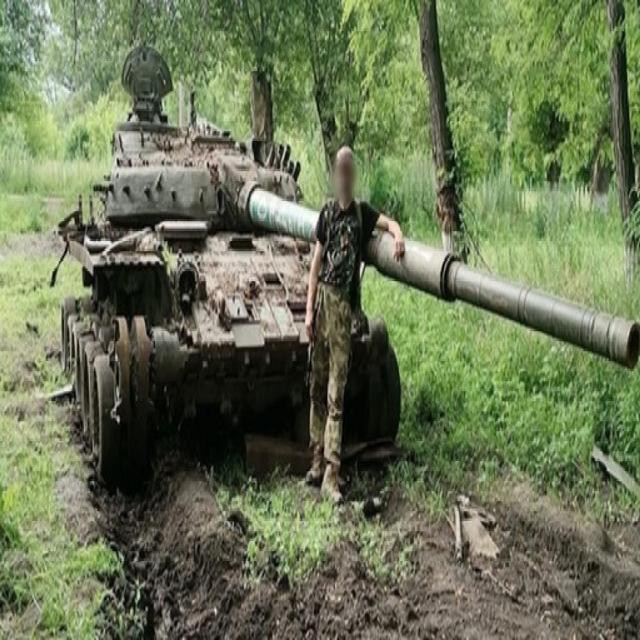TANK: (56, 44, 639, 514)
